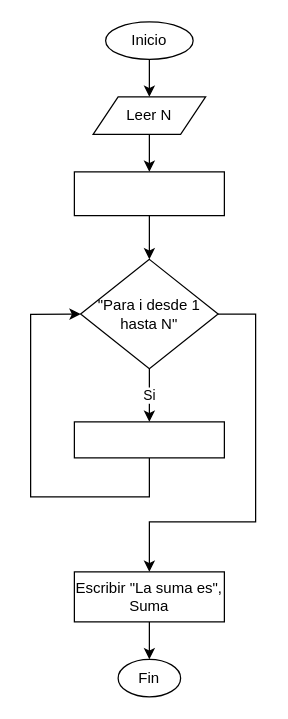
The diagram is 288 pixels wide and 719 high, and some of its shapes have lost their labels. Here are the shapes that lost their labels. From the top down, the centre of each, then its label:
At (148,193): "Inicializar Suma = 0".
At (148,439): "Suma = Suma + i".
